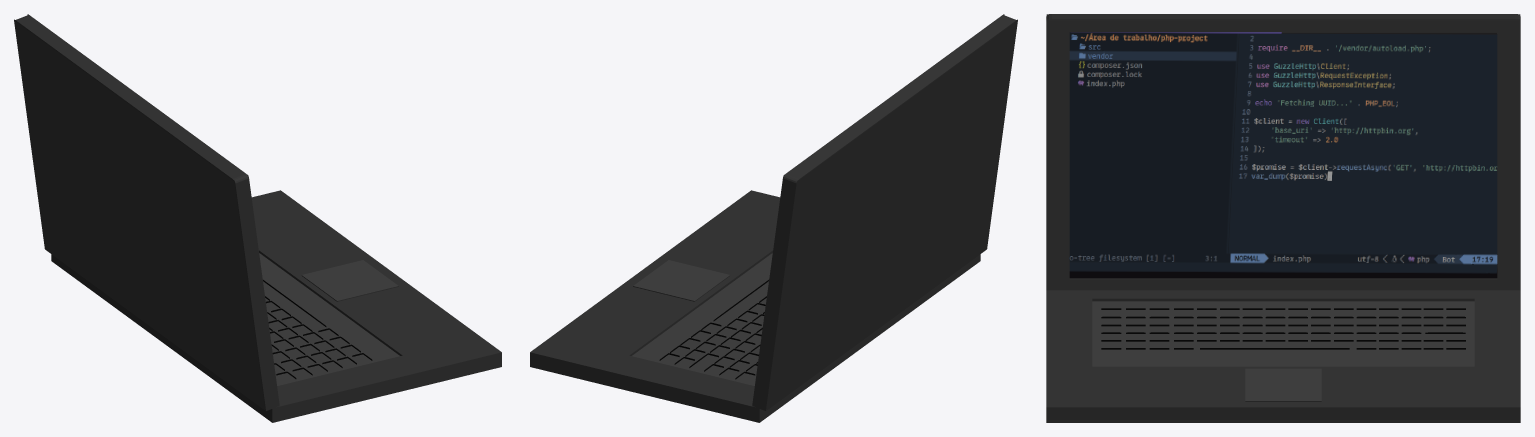
File: laptop.glb
3 renders of one model, left to right at view 1: azimuth 30°, elevation 25°; view 2: azimuth 150°, elevation 25°; view 3: azimuth 270°, elevation 25°, orthographic. The views are drawn at different scales.
Visible parts, largest first — view 1: Screen, Keyboard; view 2: Screen, Keyboard; view 3: Screen, Keyboard.
Part boxes in pixels (x1,y1,x2,y2): Screen: (14,14,279,410); Keyboard: (51,190,501,422); Screen: (752,14,1017,410); Keyboard: (530,190,980,422); Screen: (1046,14,1520,290); Keyboard: (1046,290,1520,422).
Size of the model in its own units: 1.39 by 1.26 by 2.
4 materials, 1 textured.
